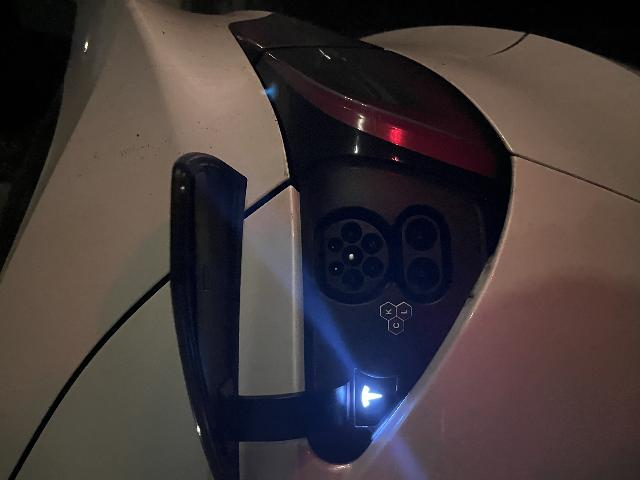inlet: (186, 324, 261, 389)
inlet-above-left: (204, 329, 219, 344)
inlet-above-right: (227, 328, 243, 343)
inlet-below-left: (202, 362, 223, 383)
inlet-below-right: (226, 362, 247, 382)
inlet-circle: (213, 341, 235, 363)
inlet-circle-left: (189, 343, 212, 363)
inlet-circle-right: (236, 340, 258, 362)
inlet-minus: (228, 405, 262, 437)
inlet-plus: (189, 407, 223, 439)
